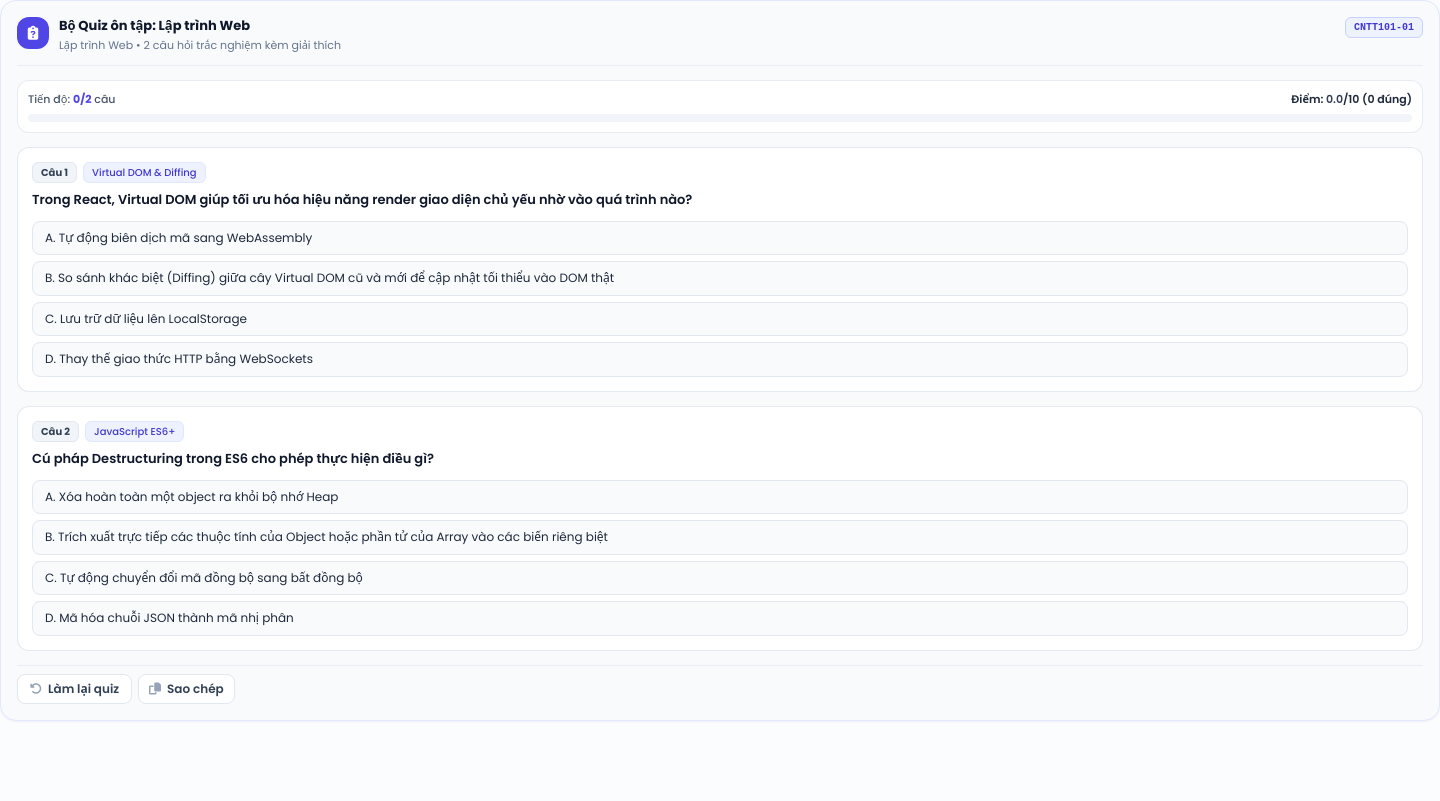
Test: InteractiveQuizCard Component › displays completion banner and supports reset quiz
Note: Answer Q1 correctly
Click the button "So sánh khác biệt (Diffing)" at coordinates (330, 278), box [32,261,1408,296]
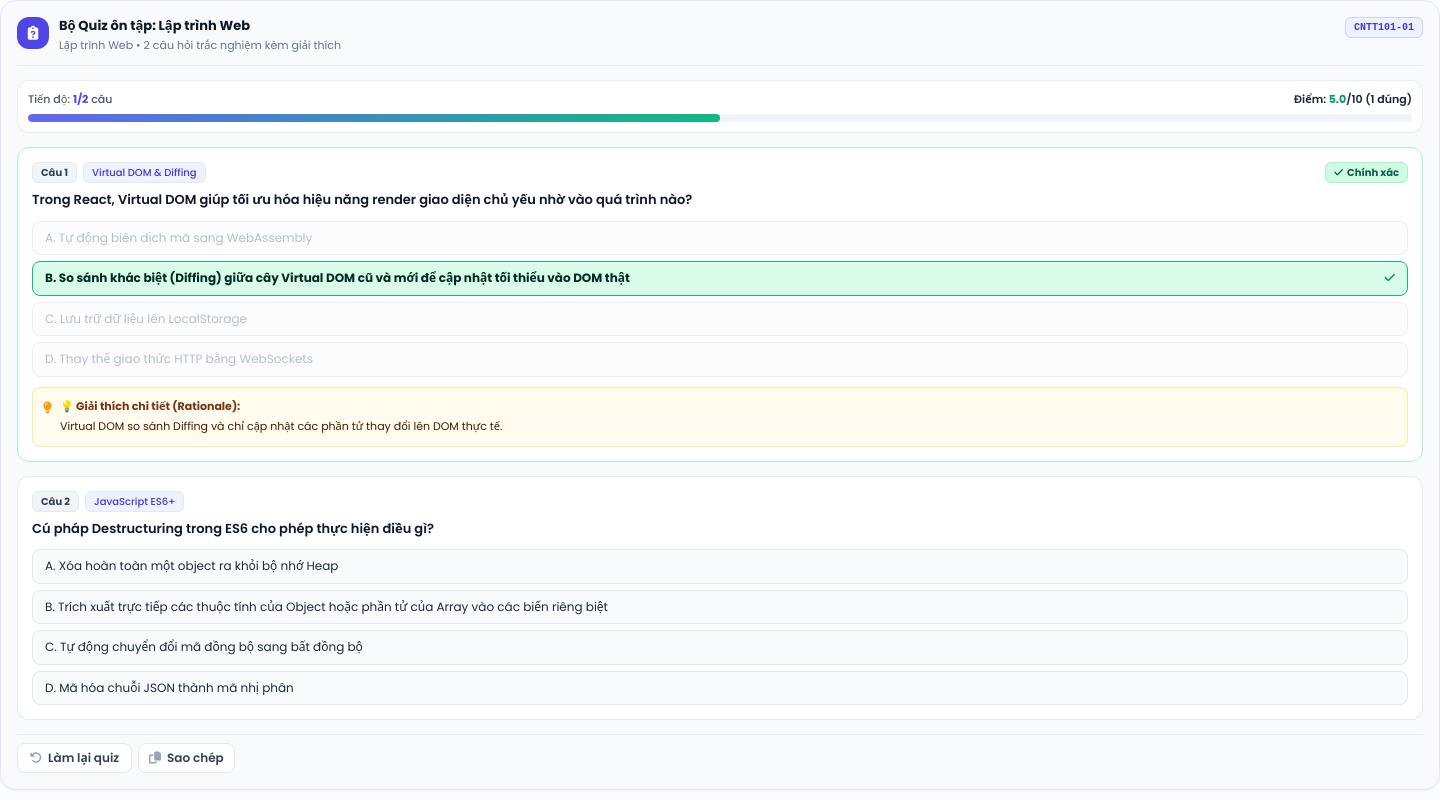
Note: Answer Q2 correctly
Click the button "Trích xuất trực tiếp các thuộc tính" at coordinates (326, 606), box [32,590,1408,624]
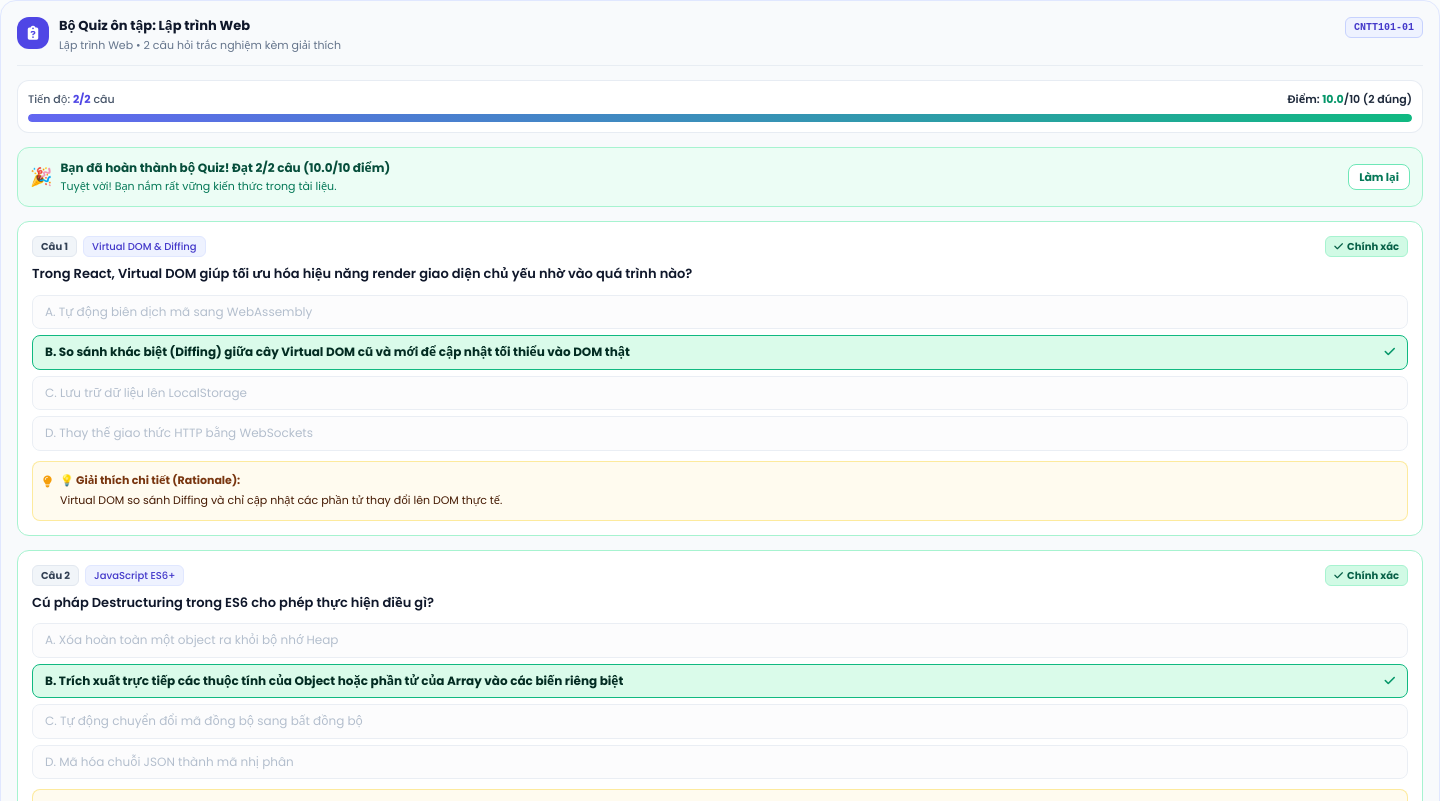
Expected: the text "10.0" is shown, [1322,91,1344,107]
Expected: the text "Bạn đã hoàn thành bộ Quiz! Đạt 2/2 câu (10.0/10 điểm)" is shown, [60,160,390,176]
Note: Click Làm lại
Click the button "Làm lại" at coordinates (1379, 177), box [1348,164,1410,190]
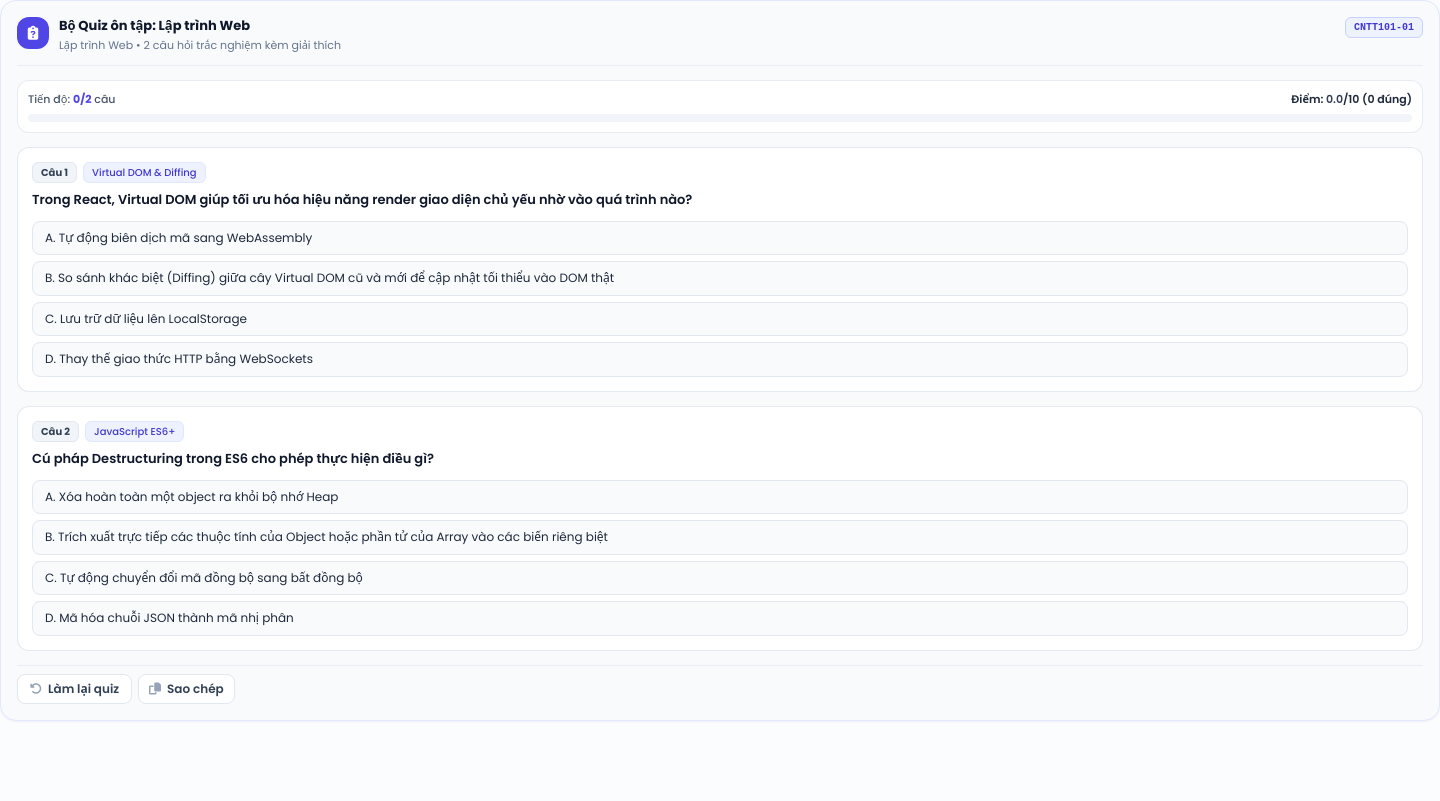
Expected: the text "0.0" is shown, [1326,91,1343,107]
Expected: the text "Bạn đã hoàn thành bộ Quiz!" is gone
